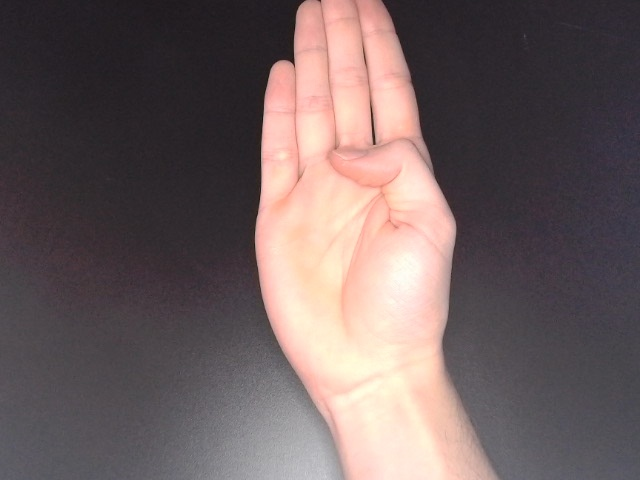b: (245, 1, 465, 411)
